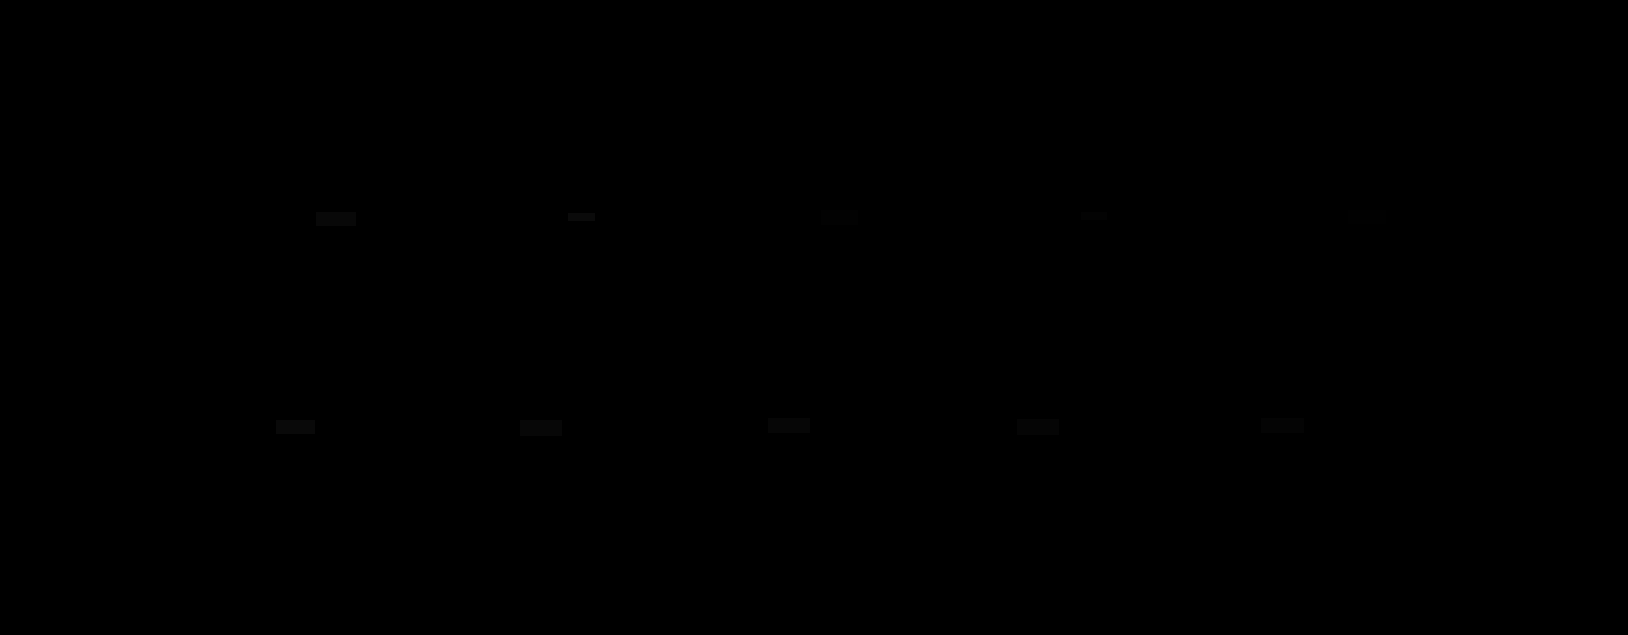light: (1017, 419, 1059, 435), (520, 420, 562, 436), (1261, 418, 1304, 433), (768, 418, 810, 433), (316, 212, 356, 226), (821, 210, 858, 225), (1348, 210, 1386, 224), (276, 420, 315, 434), (568, 213, 595, 221), (1081, 212, 1107, 220)
